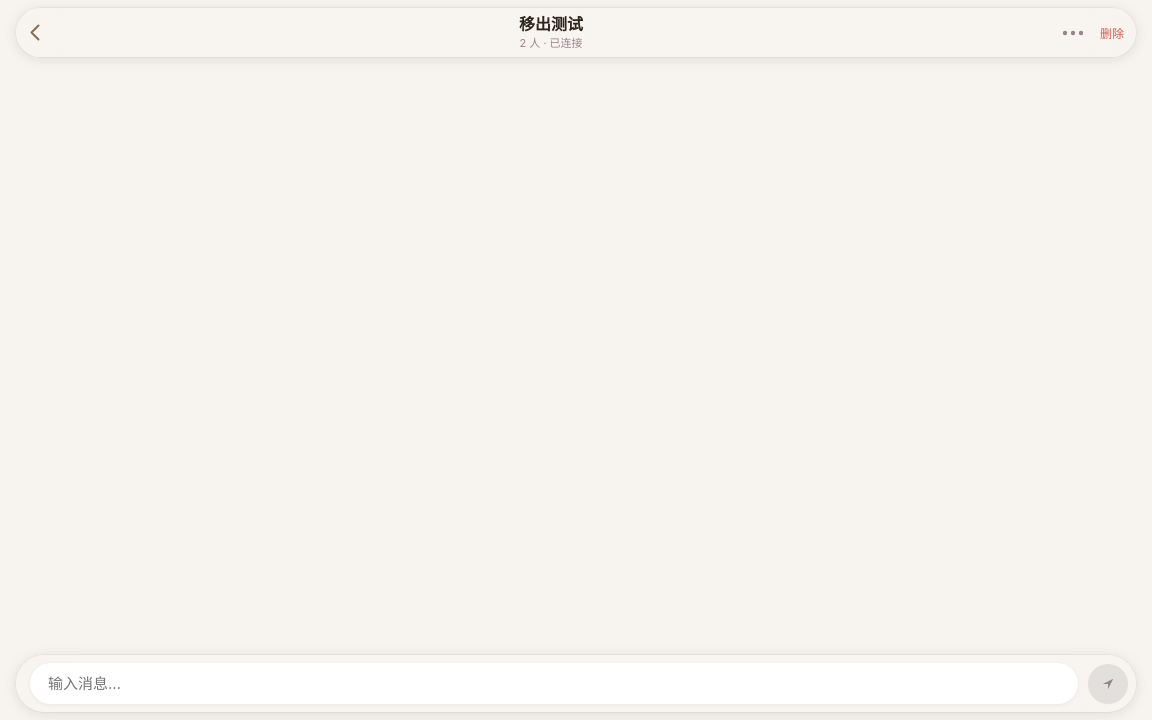
Chat member panel › lets the owner confirm removing another human member
Click the button named "查看成员". click: (1070, 33)
box: [1054,26,1086,40]
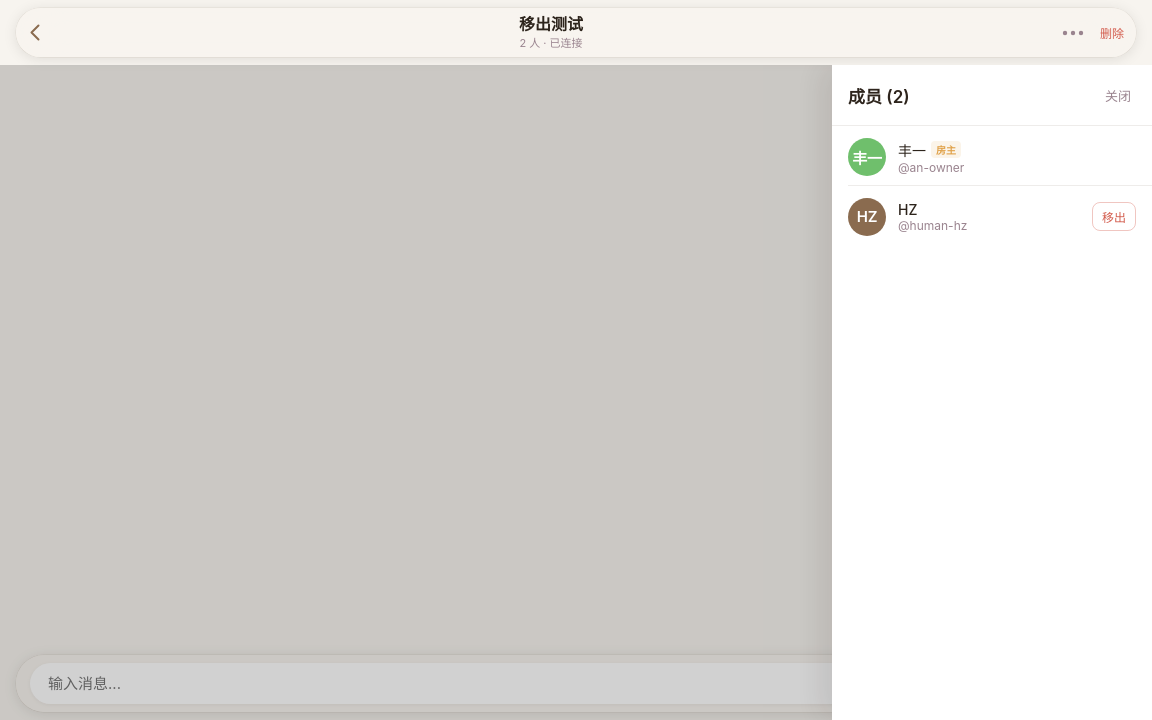
Click the button with aria-label "将 HZ 移出房间". click: (1114, 217)
box: [1092,202,1136,231]
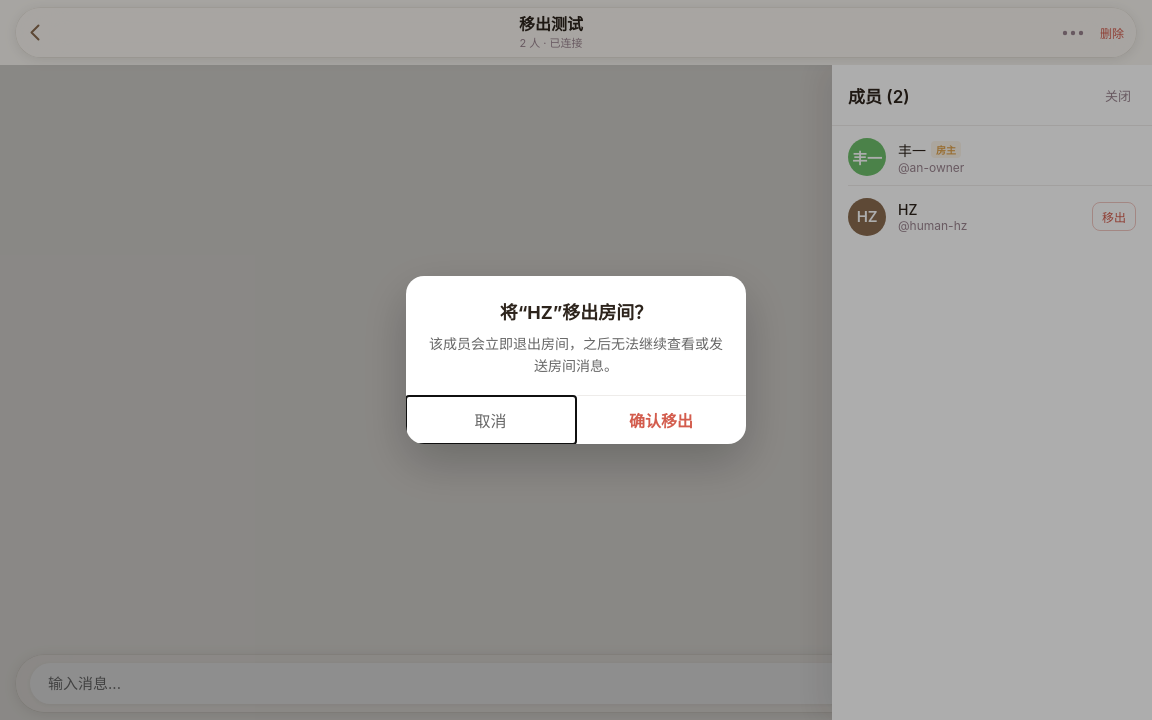
Result: the dialog shows "将“HZ”移出房间？" at [500,302,652,323]
Click the button "确认移出". click: (661, 420)
box: [576,396,746,444]
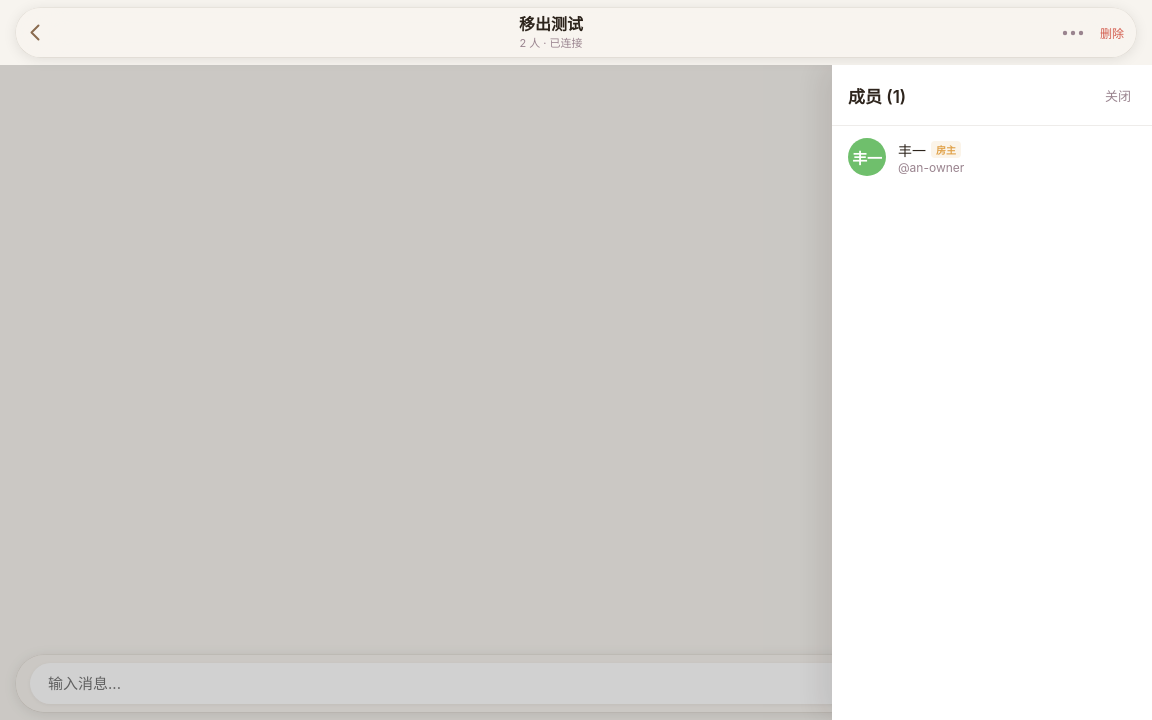
Result: the text "HZ" is gone
